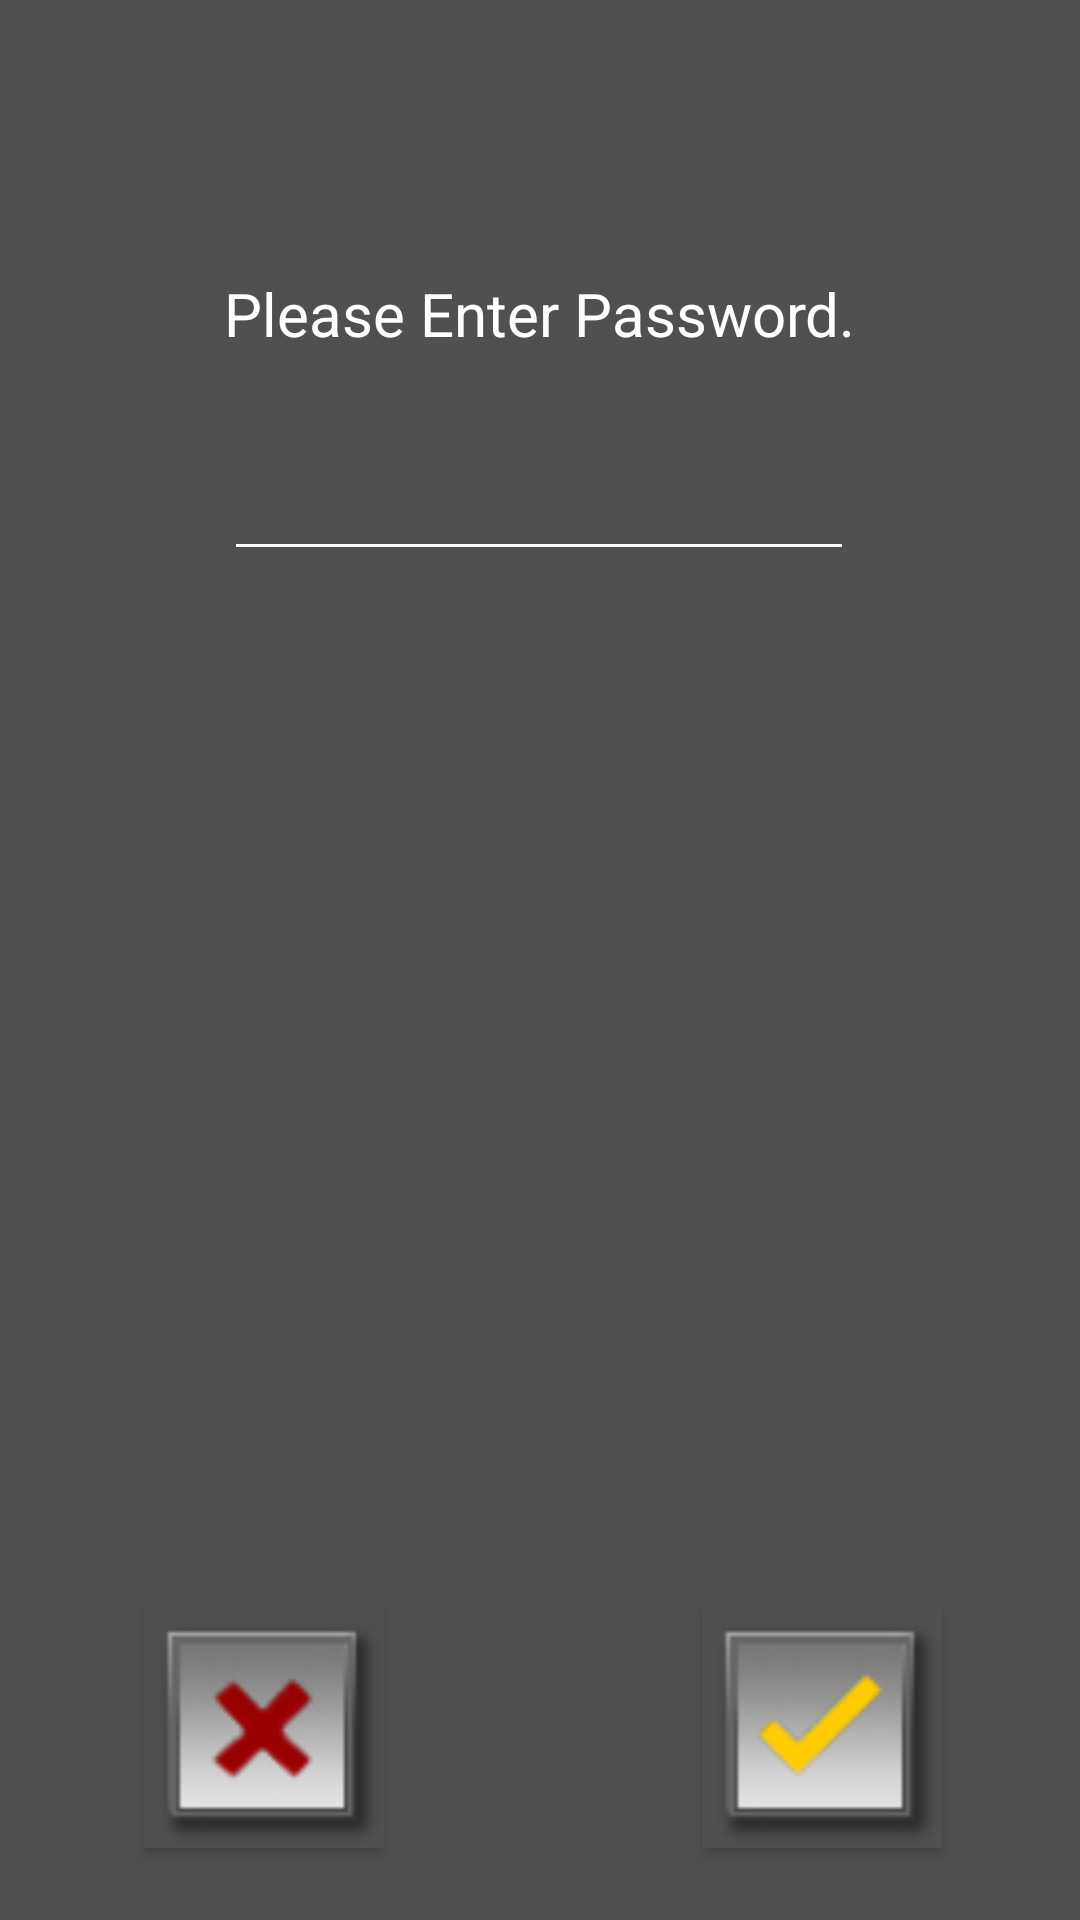

Where icons sit on this 1080px×1920px app screen, as (x1=x1, y1=y1, x2=x2, y2=y2):
checklup: (x1=725, y1=1631, x2=924, y2=1830)
exitup: (x1=167, y1=1631, x2=366, y2=1830)
